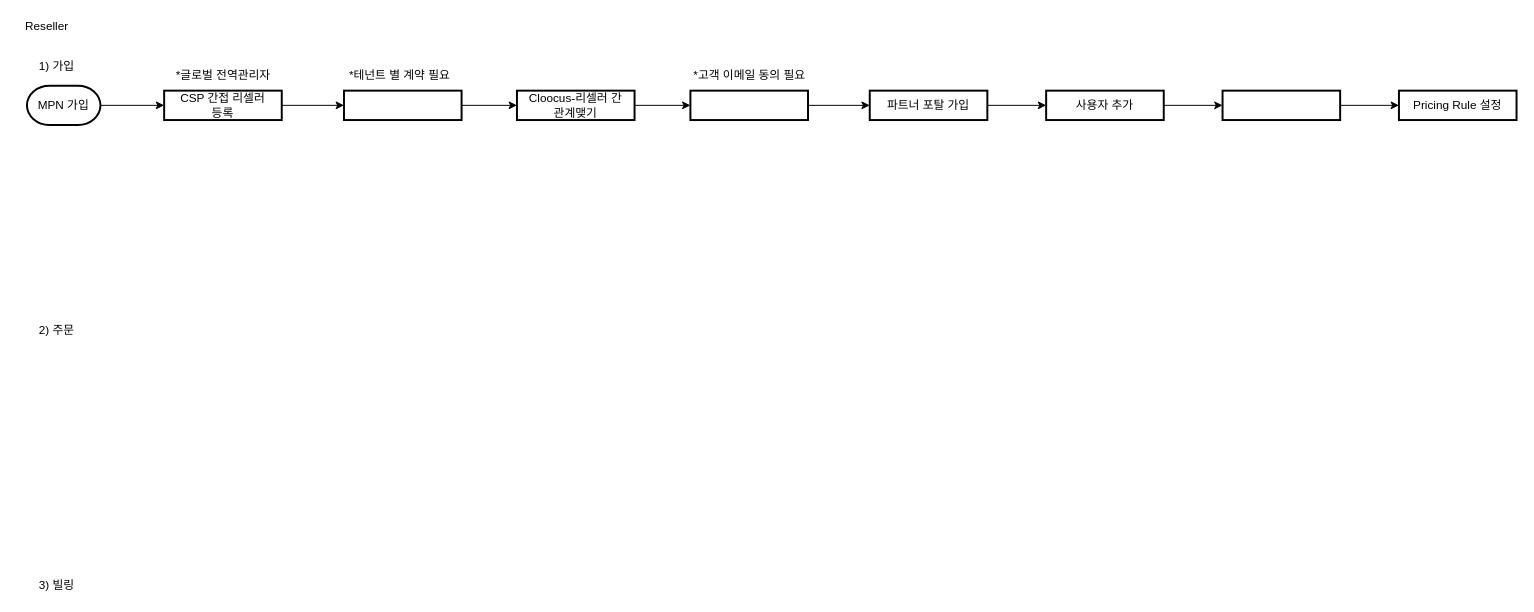
This 1534x612 diagram has some shape labels left out. Each missing label, with the centre of its shape:
MPA 계약: the point at 402,105
고객사 추가: the point at 1281,105
리셀러-고객 간 관계 맺기: the point at 748,105
